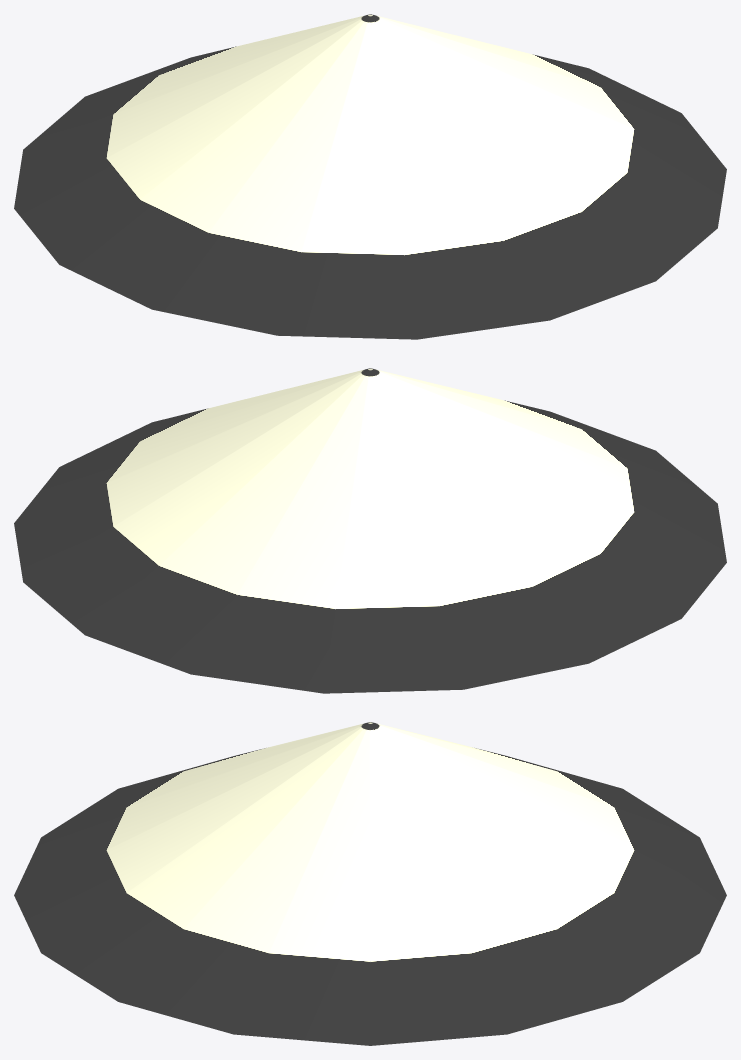
Rendered from ceiling_lamp_mp_1_1_fake_light_2.glb.
The picture shows the model from 3 angles, top to bottom: view 1: azimuth 30°, elevation 25°; view 2: azimuth 150°, elevation 25°; view 3: azimuth 270°, elevation 25°; orthographic projection.
Visible parts, largest first — view 1: ceiling_lamp_mp_1_1_fake_light_2; view 2: ceiling_lamp_mp_1_1_fake_light_2; view 3: ceiling_lamp_mp_1_1_fake_light_2.
Boxes of the visible parts, x1,y1,x2,y2 form: ceiling_lamp_mp_1_1_fake_light_2: (14,14,726,339); ceiling_lamp_mp_1_1_fake_light_2: (14,368,726,693); ceiling_lamp_mp_1_1_fake_light_2: (14,722,726,1045).
Size of the model in its own units: 9 by 2.4 by 9.
Materials: 1 (1 with a texture image).
